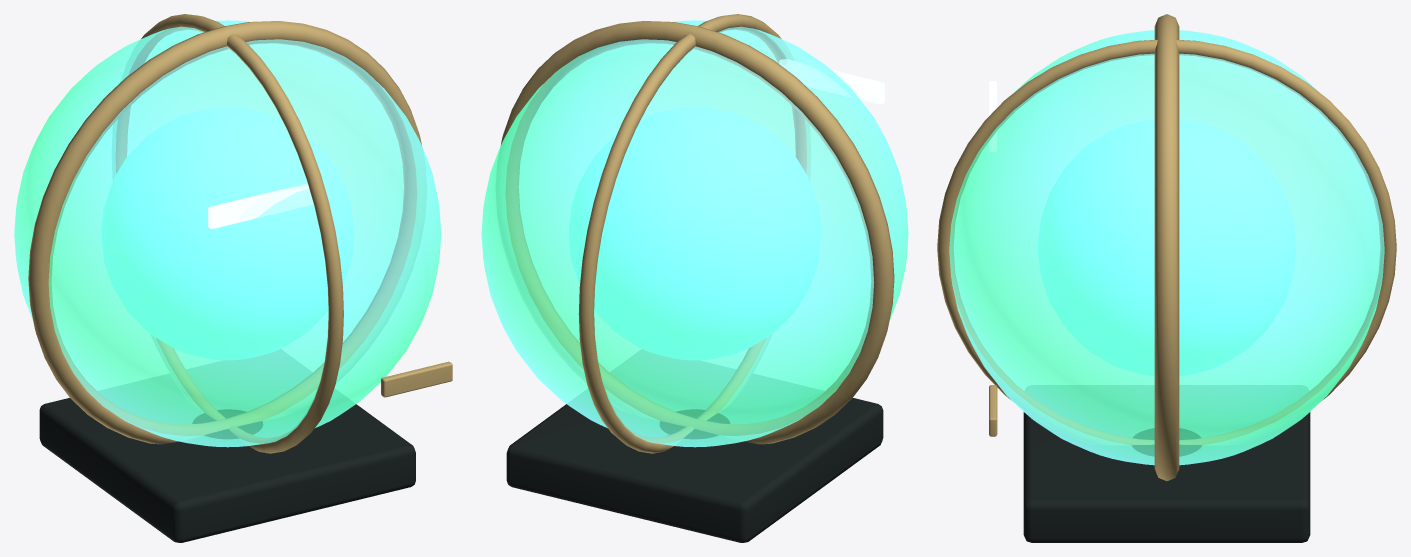
File: age_museum_puzzle_orb_green.glb
3 renders of one model, left to right at view 1: azimuth 30°, elevation 25°; view 2: azimuth 150°, elevation 25°; view 3: azimuth 270°, elevation 25°, orthographic. The views are drawn at different scales.
Visible parts, largest first — view 1: puzzle_orb_green_outer_glass, puzzle_orb_green_core, puzzle_orb_green_base_socket, puzzle_orb_green_equator_brass, puzzle_orb_green_vertical_brass, puzzle_orb_green_cyan_reflection_plate, puzzle_orb_green_small_accession_tag; view 2: puzzle_orb_green_outer_glass, puzzle_orb_green_core, puzzle_orb_green_base_socket, puzzle_orb_green_equator_brass, puzzle_orb_green_vertical_brass, puzzle_orb_green_cyan_reflection_plate; view 3: puzzle_orb_green_outer_glass, puzzle_orb_green_core, puzzle_orb_green_base_socket, puzzle_orb_green_vertical_brass, puzzle_orb_green_equator_brass.
Boxes of the visible parts, x1,y1,x2,y2 form: puzzle_orb_green_outer_glass: (14,20,441,447); puzzle_orb_green_core: (101,107,353,359); puzzle_orb_green_base_socket: (39,398,415,542); puzzle_orb_green_equator_brass: (28,21,421,444); puzzle_orb_green_vertical_brass: (115,14,343,453); puzzle_orb_green_cyan_reflection_plate: (208,183,312,229); puzzle_orb_green_small_accession_tag: (381,361,452,397); puzzle_orb_green_outer_glass: (481,20,908,447); puzzle_orb_green_core: (568,107,821,359); puzzle_orb_green_base_socket: (506,398,883,542); puzzle_orb_green_equator_brass: (500,21,894,444); puzzle_orb_green_vertical_brass: (578,14,806,453); puzzle_orb_green_cyan_reflection_plate: (779,59,884,104); puzzle_orb_green_outer_glass: (949,30,1384,465); puzzle_orb_green_core: (1037,119,1296,375); puzzle_orb_green_base_socket: (1023,412,1310,542); puzzle_orb_green_vertical_brass: (937,39,1396,444); puzzle_orb_green_equator_brass: (1154,14,1179,480).
Bounding box in the file's own units: 0.686 × 0.728 × 0.674.
